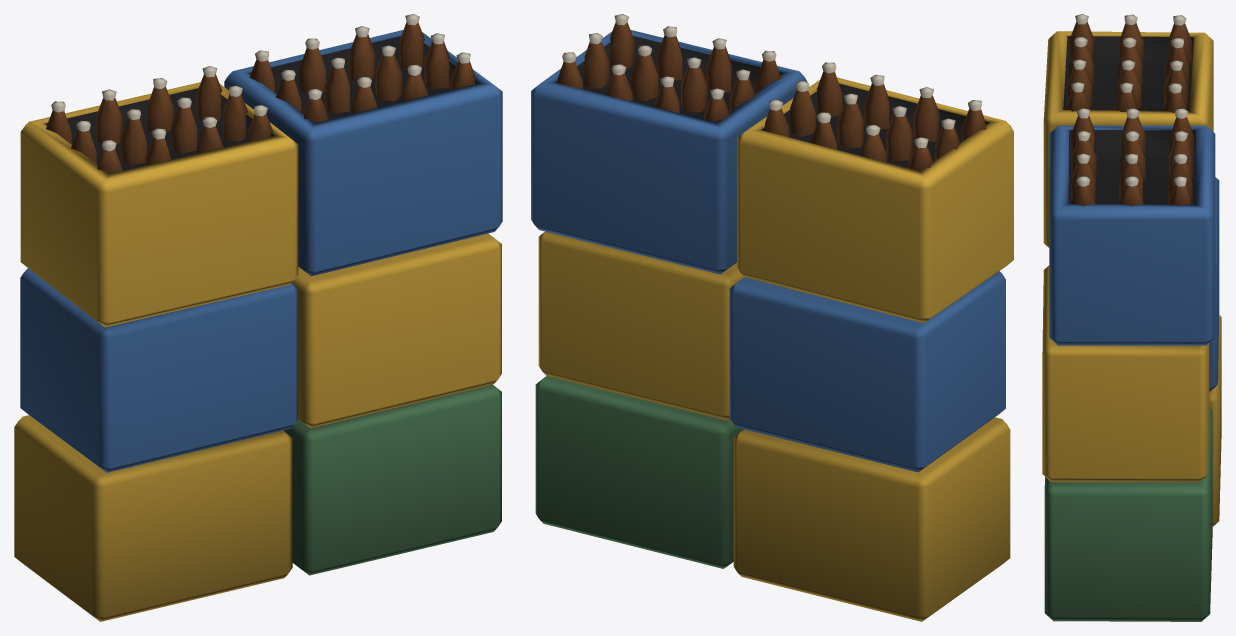
The model's file is DrinksCrates.fbx.
3 views of the same model, side by side, from view 1: azimuth 30°, elevation 25°; view 2: azimuth 150°, elevation 25°; view 3: azimuth 270°, elevation 25° (orthographic). The views are drawn at different scales.
Visible parts, largest first — view 1: DrinksCrates; view 2: DrinksCrates; view 3: DrinksCrates.
Boxes of the visible parts, <box> form: DrinksCrates: <box>14,14,502,621</box>; DrinksCrates: <box>531,14,1013,621</box>; DrinksCrates: <box>1042,14,1221,621</box>.
Bounding box in the file's own units: 0.8997 × 0.993 × 0.3676.
